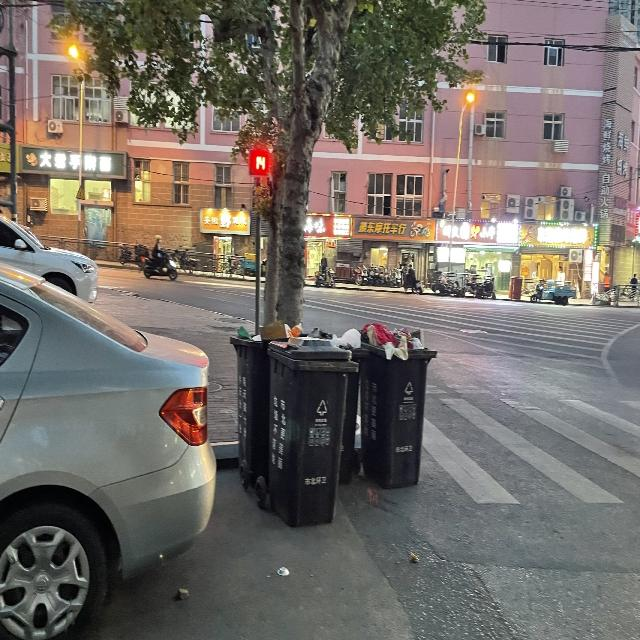garbage_bin: (267, 335, 359, 527)
overflow: (359, 321, 437, 489), (228, 319, 302, 484)
